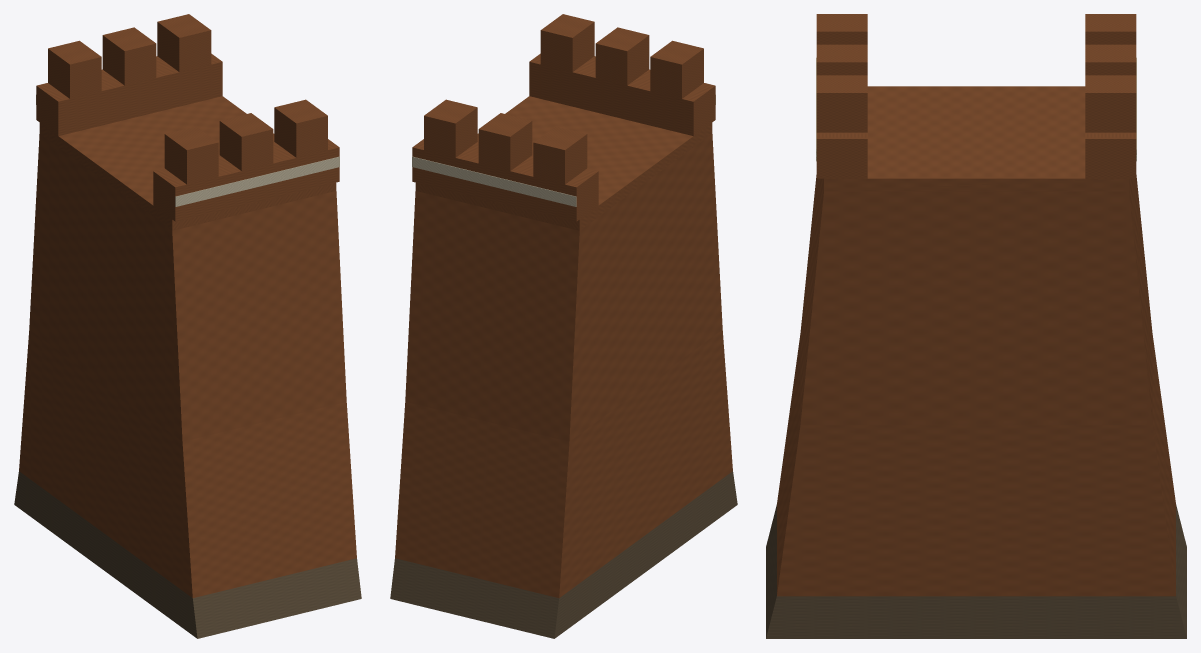
The model's file is Berber_Wall_Age2_straight_3m.fbx.
The picture shows the model from 3 angles, left to right: view 1: azimuth 30°, elevation 25°; view 2: azimuth 150°, elevation 25°; view 3: azimuth 270°, elevation 25°; orthographic projection. The views are drawn at different scales.
Parts seen in each view (by area): view 1: straight_3m_rammed_curtain_upper, straight_3m_rammed_curtain_lower, straight_3m_battered_stone_foot, straight_3m_walk_deck, straight_3m_parapet.001, straight_3m_parapet, straight_3m_merlon.005, straight_3m_merlon.001, straight_3m_merlon, straight_3m_merlon.004, straight_3m_merlon.003, straight_3m_merlon.002 (+1 smaller); view 2: straight_3m_rammed_curtain_upper, straight_3m_rammed_curtain_lower, straight_3m_battered_stone_foot, straight_3m_walk_deck, straight_3m_parapet, straight_3m_parapet.001, straight_3m_merlon.002, straight_3m_merlon.004, straight_3m_merlon.001, straight_3m_merlon.003, straight_3m_merlon, straight_3m_merlon.005 (+1 smaller); view 3: straight_3m_rammed_curtain_upper, straight_3m_rammed_curtain_lower, straight_3m_walk_deck, straight_3m_battered_stone_foot, straight_3m_merlon.002, straight_3m_merlon.005, straight_3m_parapet.001, straight_3m_parapet, straight_3m_merlon.001, straight_3m_merlon.004, straight_3m_merlon, straight_3m_merlon.003.
Boxes of the visible parts, x1,y1,x2,y2 form: straight_3m_rammed_curtain_upper: (29,134,346,441); straight_3m_rammed_curtain_lower: (19,330,356,597); straight_3m_battered_stone_foot: (14,471,361,638); straight_3m_walk_deck: (39,96,336,230); straight_3m_parapet.001: (36,53,222,135); straight_3m_parapet: (153,139,339,221); straight_3m_merlon.005: (157,14,211,72); straight_3m_merlon.001: (219,113,273,170); straight_3m_merlon: (164,126,218,184); straight_3m_merlon.004: (102,27,156,85); straight_3m_merlon.003: (48,40,101,98); straight_3m_merlon.002: (274,99,327,157); straight_3m_rammed_curtain_upper: (405,134,722,441); straight_3m_rammed_curtain_lower: (395,330,732,597); straight_3m_battered_stone_foot: (390,471,737,638); straight_3m_walk_deck: (415,96,712,230); straight_3m_parapet: (529,53,715,135); straight_3m_parapet.001: (412,139,598,221); straight_3m_merlon.002: (540,14,594,72); straight_3m_merlon.004: (478,113,532,170); straight_3m_merlon.001: (595,27,649,85); straight_3m_merlon.003: (533,126,587,184); straight_3m_merlon: (650,40,703,98); straight_3m_merlon.005: (424,99,477,157); straight_3m_rammed_curtain_upper: (800,175,1152,425); straight_3m_rammed_curtain_lower: (777,335,1175,596); straight_3m_walk_deck: (824,86,1128,191); straight_3m_battered_stone_foot: (766,504,1186,638); straight_3m_merlon.002: (816,75,867,132); straight_3m_merlon.005: (1085,75,1136,132); straight_3m_parapet.001: (1085,132,1136,178); straight_3m_parapet: (816,132,867,178); straight_3m_merlon.001: (816,44,867,75); straight_3m_merlon.004: (1085,44,1136,75); straight_3m_merlon: (816,14,867,44); straight_3m_merlon.003: (1085,14,1136,44).
Size of the model in its own units: 300 by 820 by 580.
Materials: 3 (3 with a texture image).
